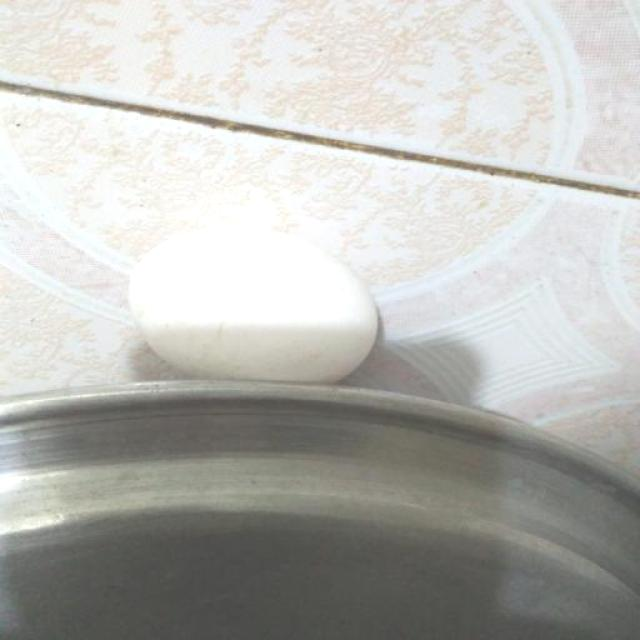telur: (131, 224, 378, 385)
